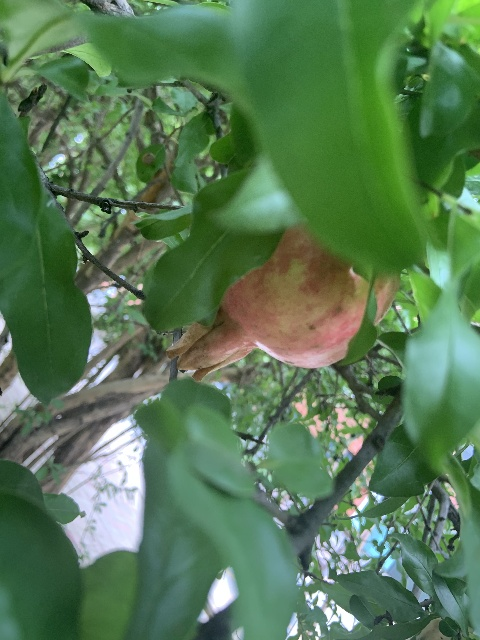ripe: (165, 227, 403, 382)
